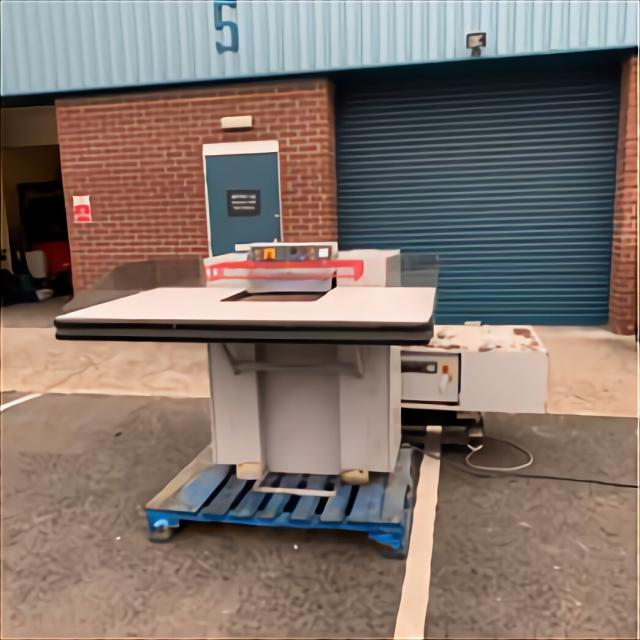broyeur: (137, 454, 409, 552)
palette: (70, 258, 425, 480)
